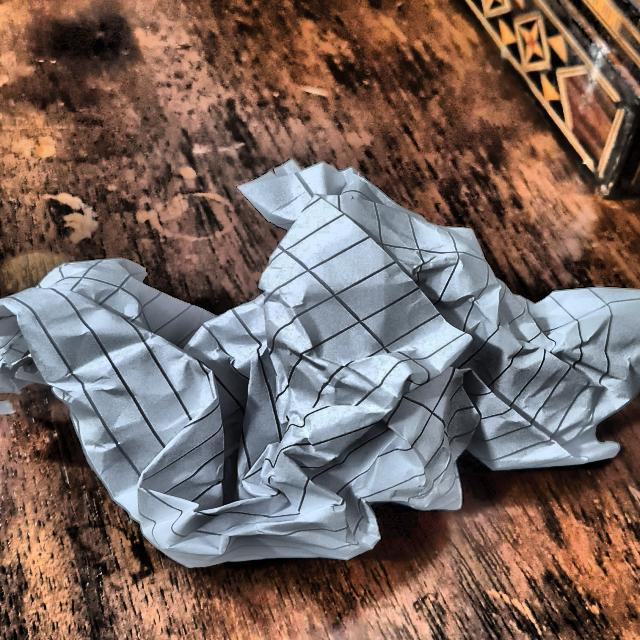paper: (0, 150, 640, 566)
